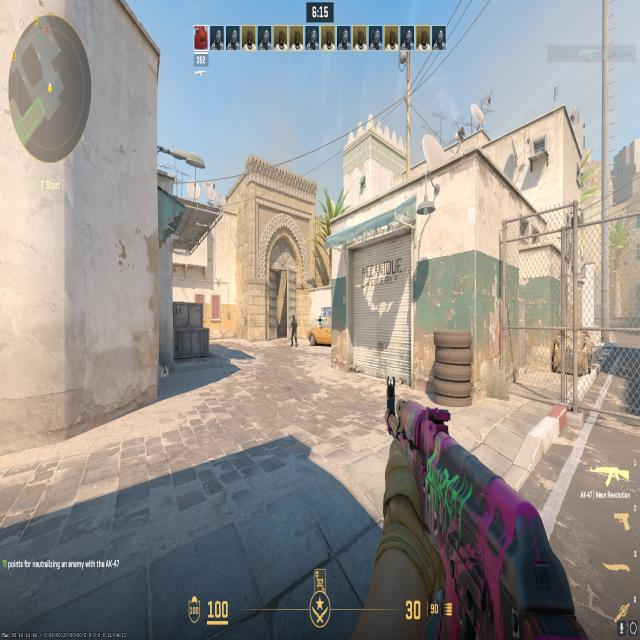ct: (288, 312, 299, 350)
